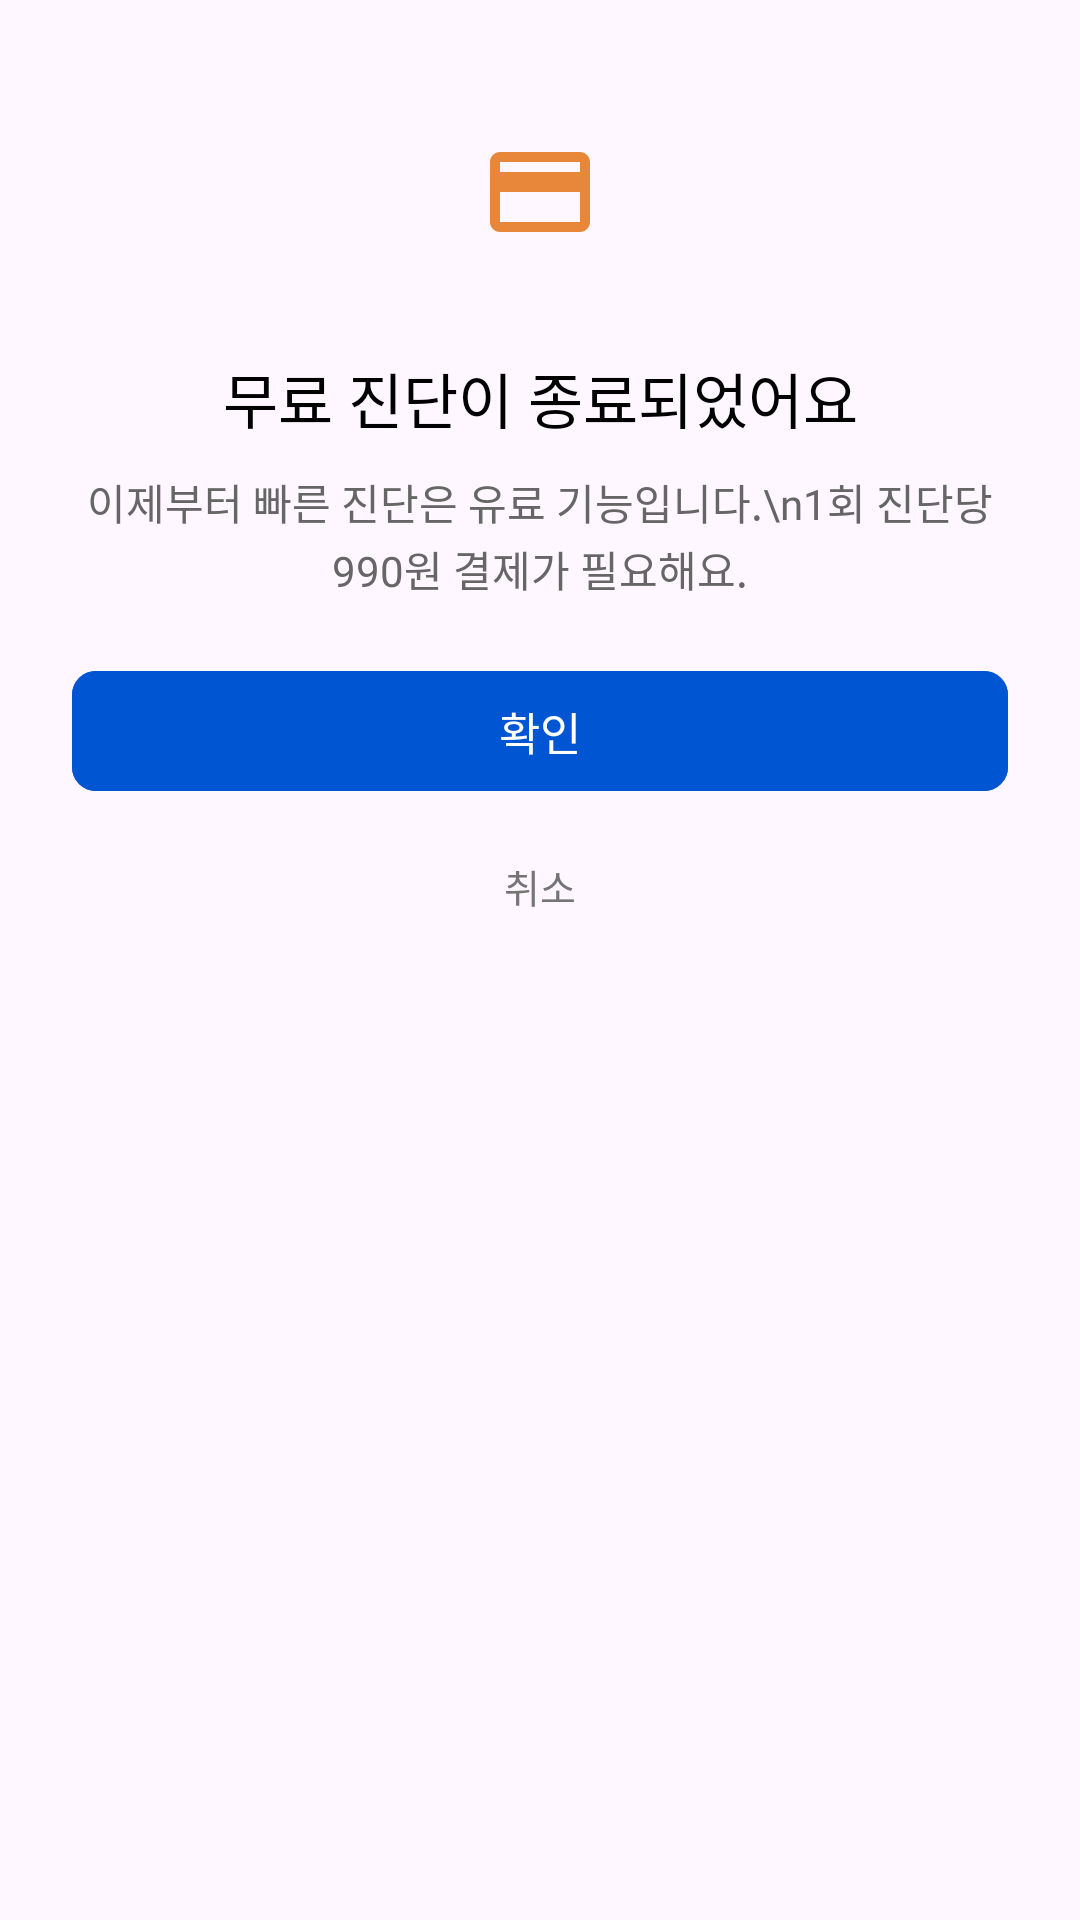

Icons on this 1080×1920 Android screen, each with the point to tap as (x,y):
payment: (540,192)
